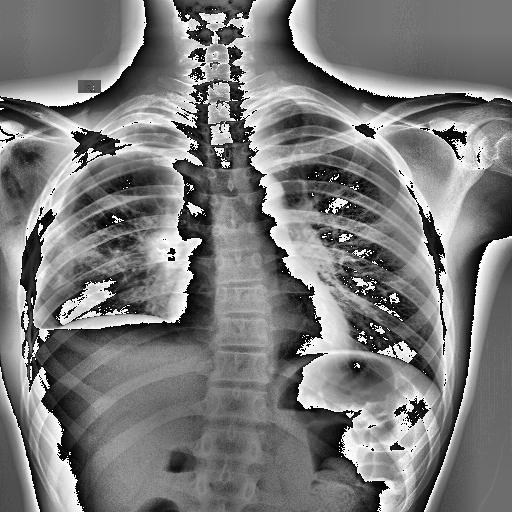10- Pleural effusion: (23, 314, 163, 366), (24, 324, 194, 361), (12, 302, 62, 360)
11- Pleural thickening: (26, 104, 198, 232), (33, 132, 114, 240), (102, 107, 205, 137)
12- Pneumothorax: (35, 274, 122, 328)
7- Lung Opacity: (26, 104, 198, 232), (37, 216, 127, 282), (88, 109, 176, 154), (142, 226, 182, 271)
